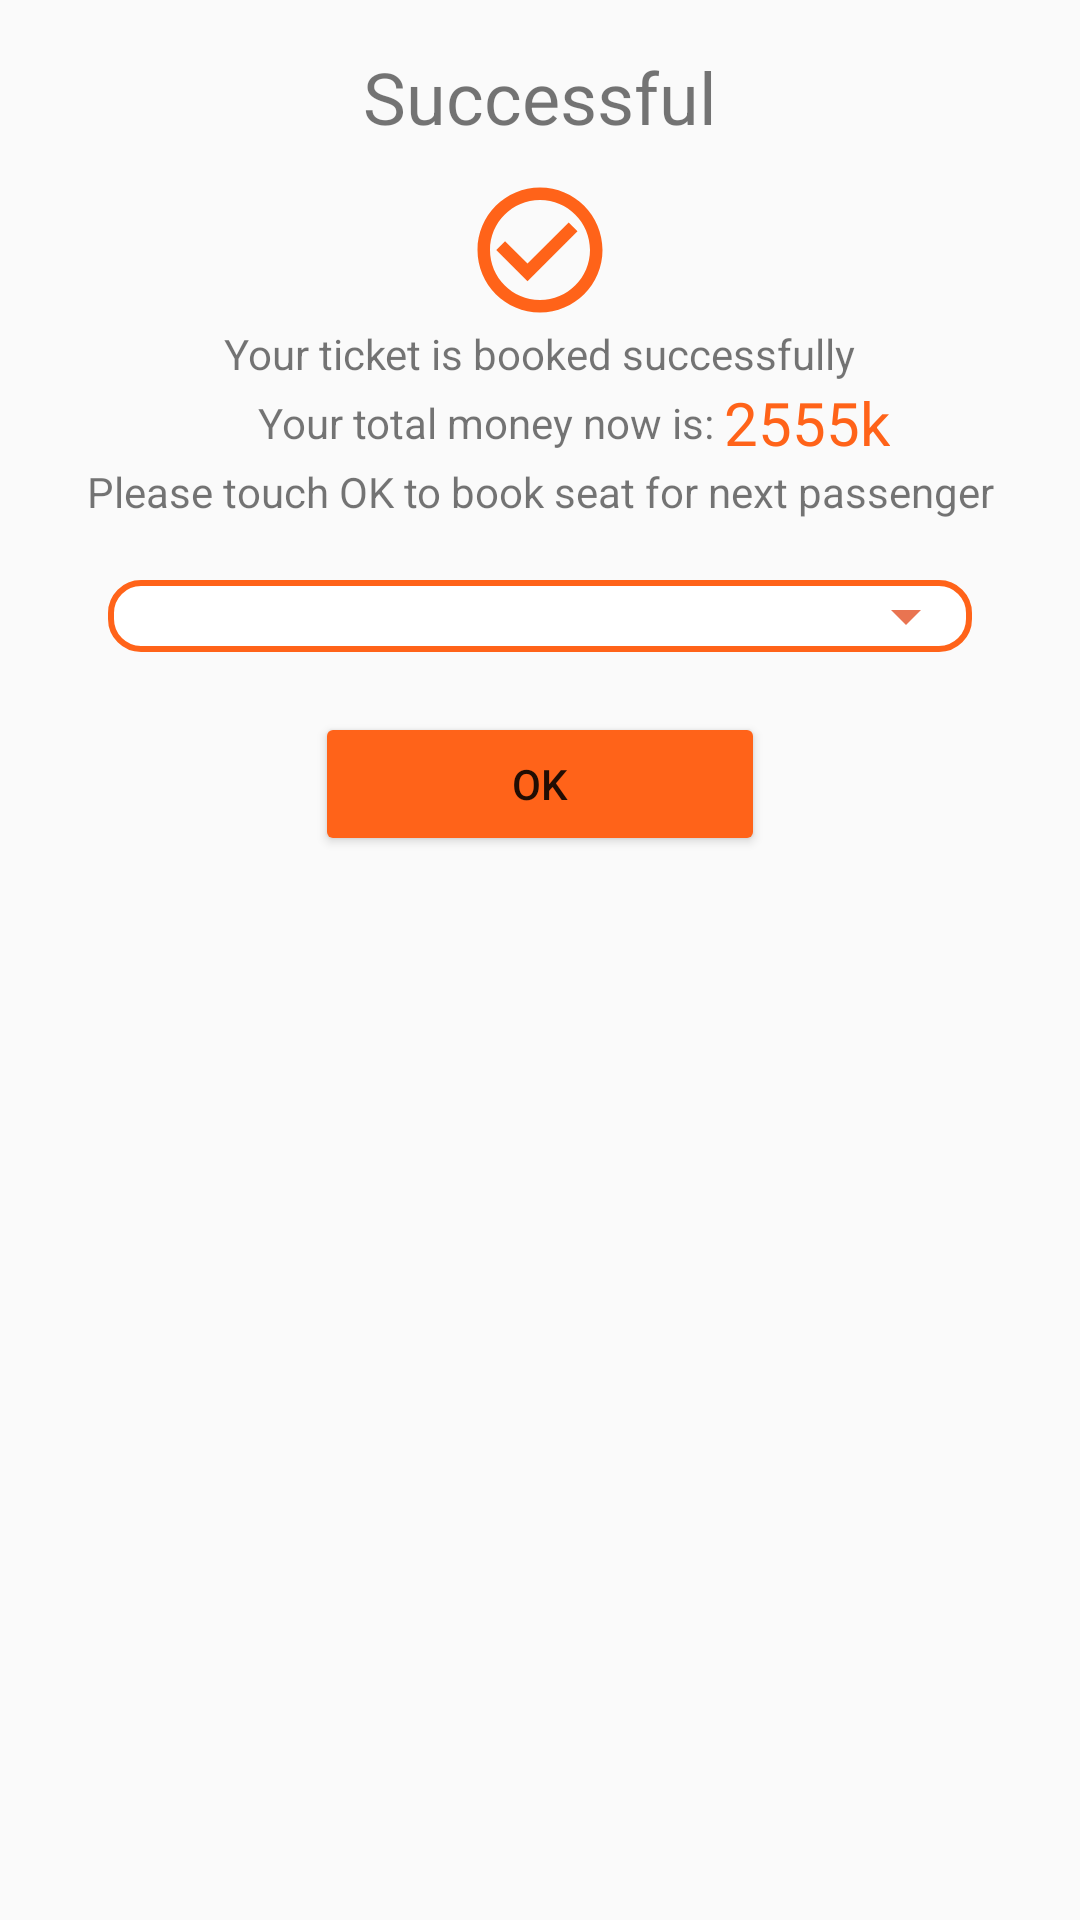

Locate icon controls on the screen. Image size 1080×1920, boxes as (x1,y1,x2,y2).
payment success: (477,187,603,313)
